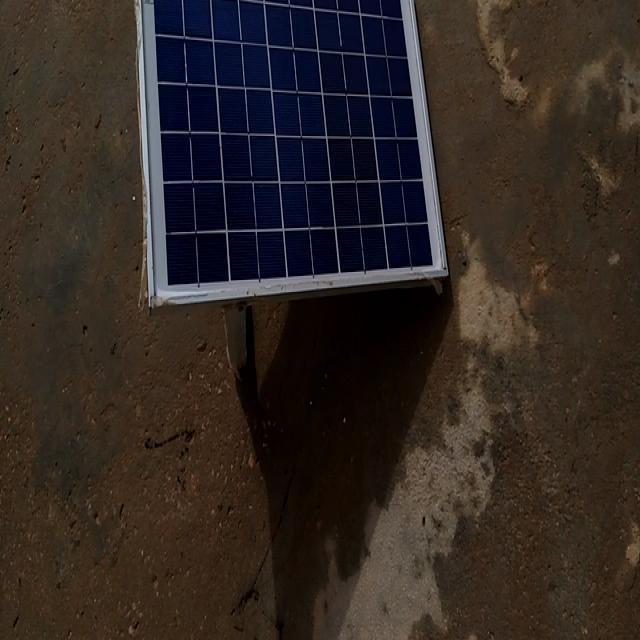Normal Solar Panel: (138, 1, 448, 305)
